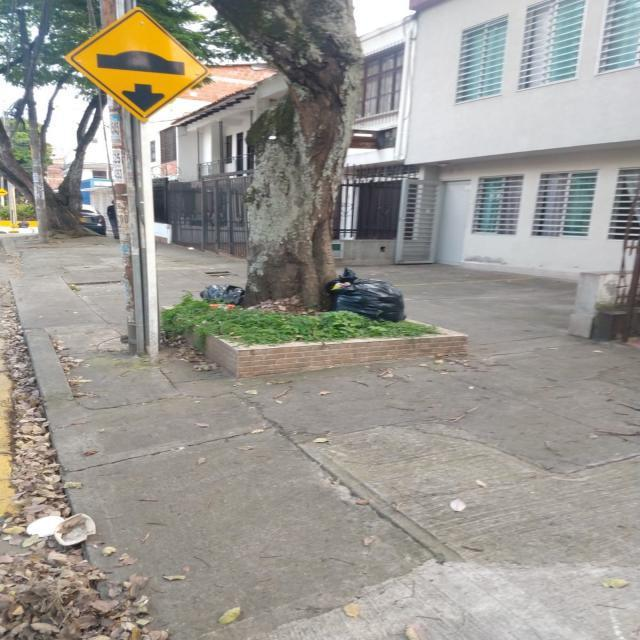Trashbag: (322, 265, 408, 324), (197, 283, 247, 305)
